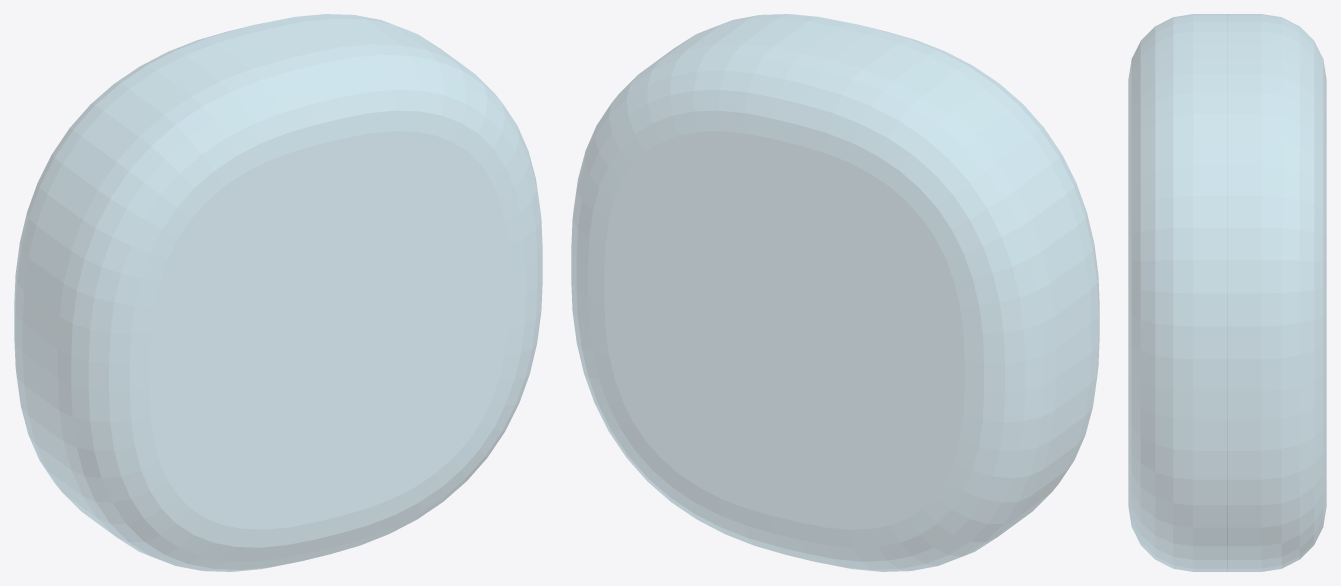
The picture shows the model from 3 angles, left to right: view 1: azimuth 30°, elevation 25°; view 2: azimuth 150°, elevation 25°; view 3: azimuth 270°, elevation 25°; orthographic projection. The views are drawn at different scales.
Visible parts, largest first — view 1: gel-body; view 2: gel-body; view 3: gel-body.
Boxes of the visible parts, bbox=[...] form: gel-body: bbox=[14, 14, 542, 571]; gel-body: bbox=[571, 14, 1099, 571]; gel-body: bbox=[1128, 14, 1326, 571].
Size of the model in its own units: 1.48 by 1.48 by 0.55.
